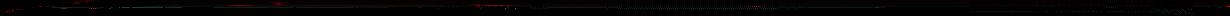Blue cone: (32, 7, 37, 8), (16, 9, 20, 10)
Yellow cone: (271, 2, 287, 6), (473, 4, 487, 8), (880, 6, 886, 8)
